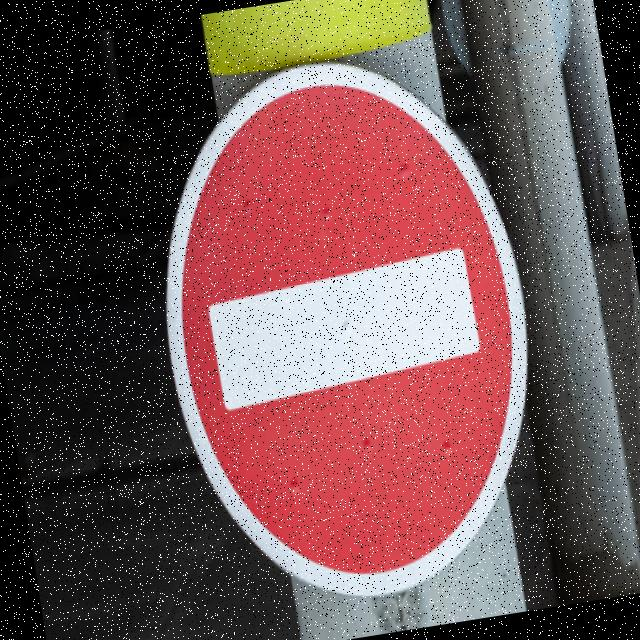do_not_enter: (129, 37, 574, 634)
